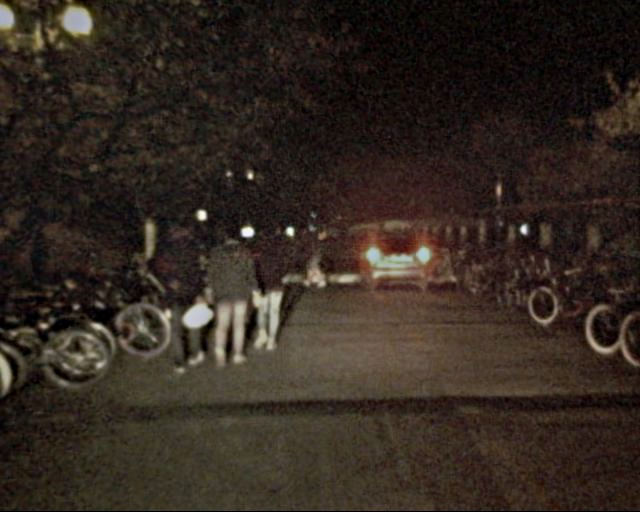person: (151, 216, 214, 373), (202, 227, 260, 368), (241, 222, 296, 353), (294, 224, 323, 291)
